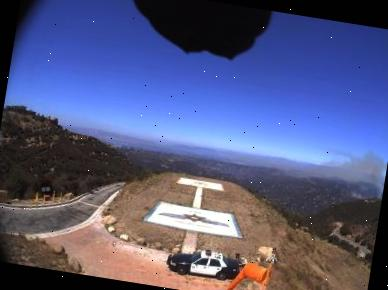smoke: (292, 139, 388, 202)
